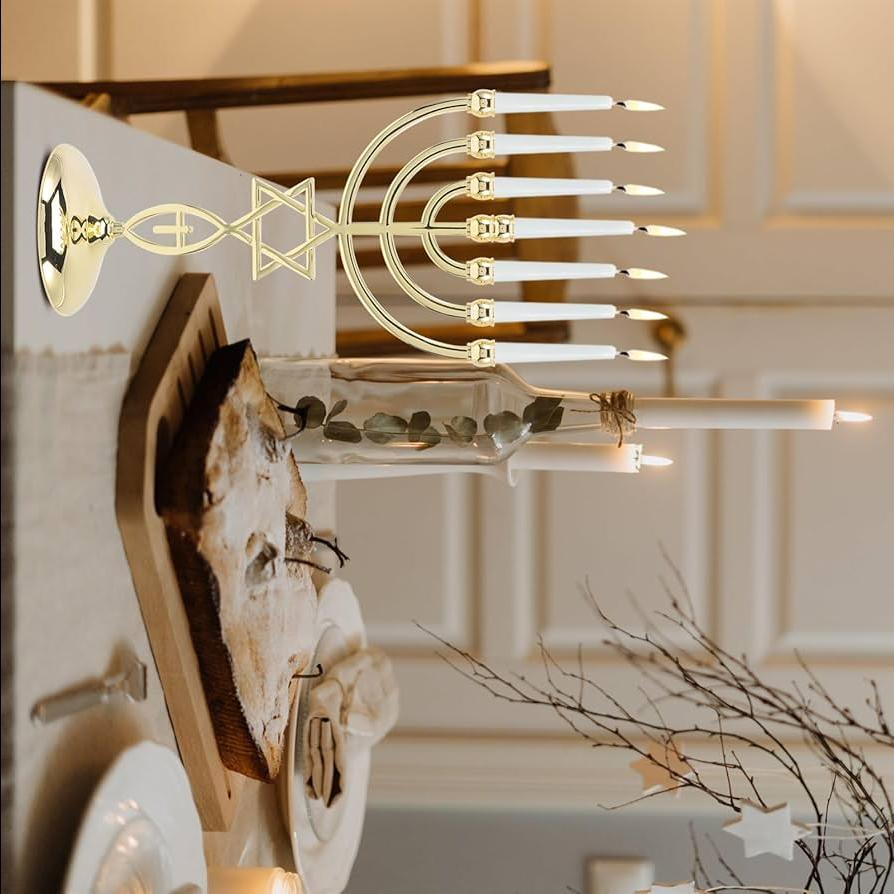controlled_fire: (591, 81, 695, 386), (612, 443, 690, 486), (828, 389, 881, 446)
